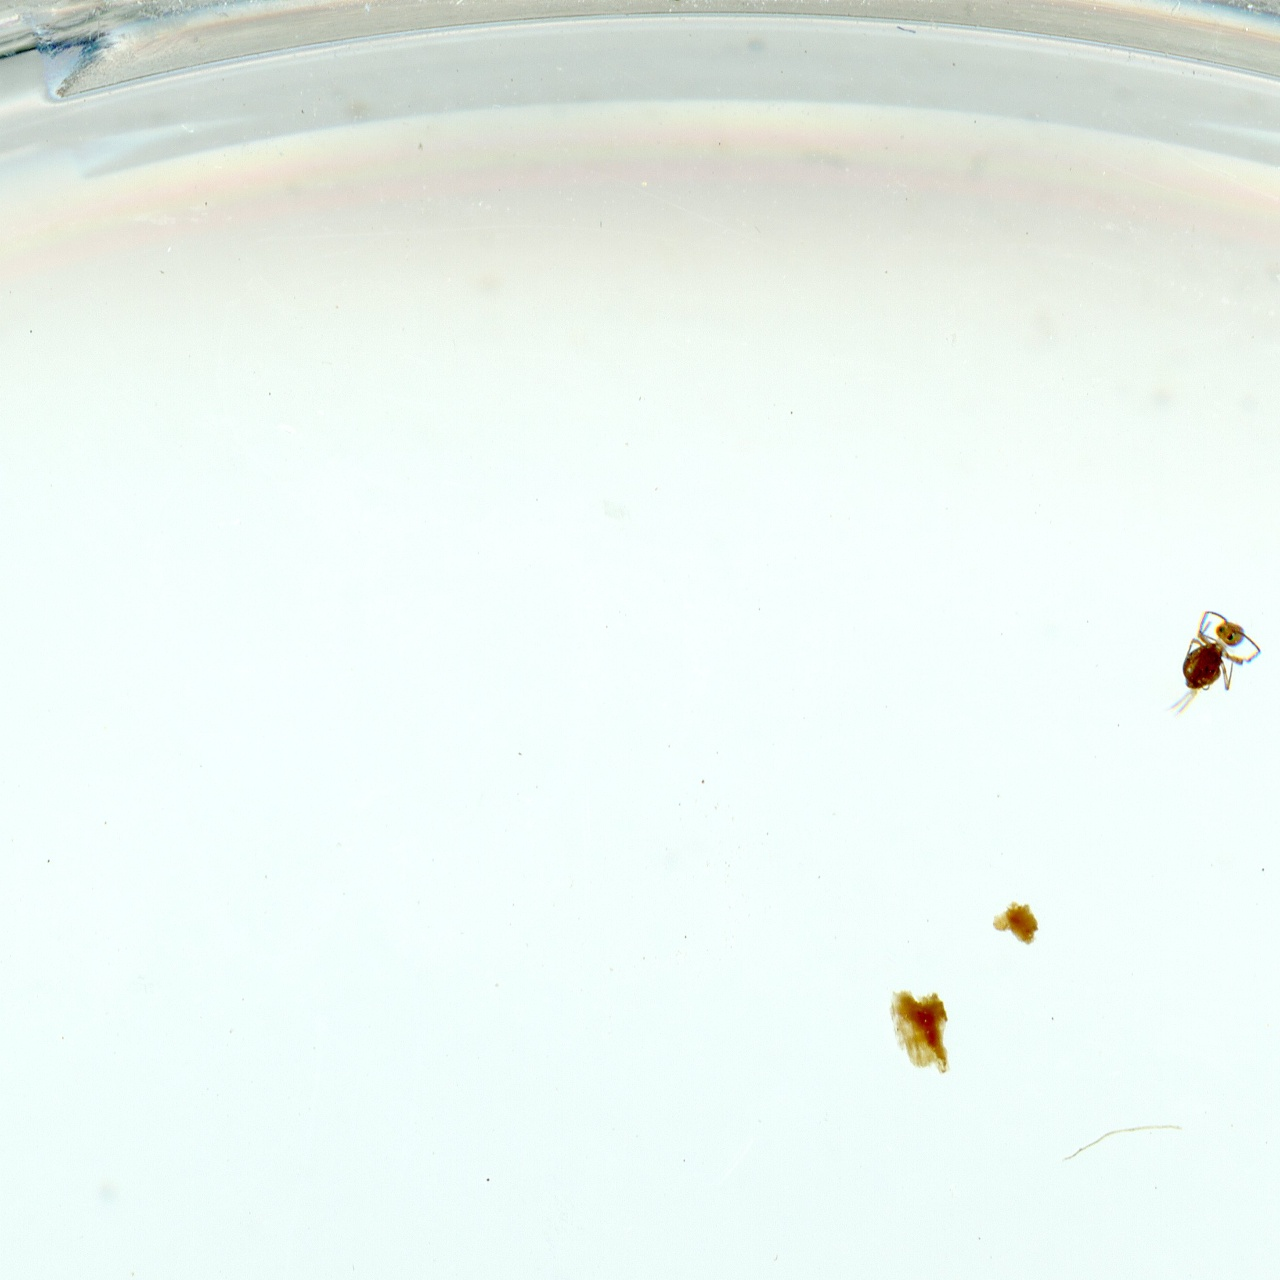arthropod: (1130, 595, 1277, 751)
